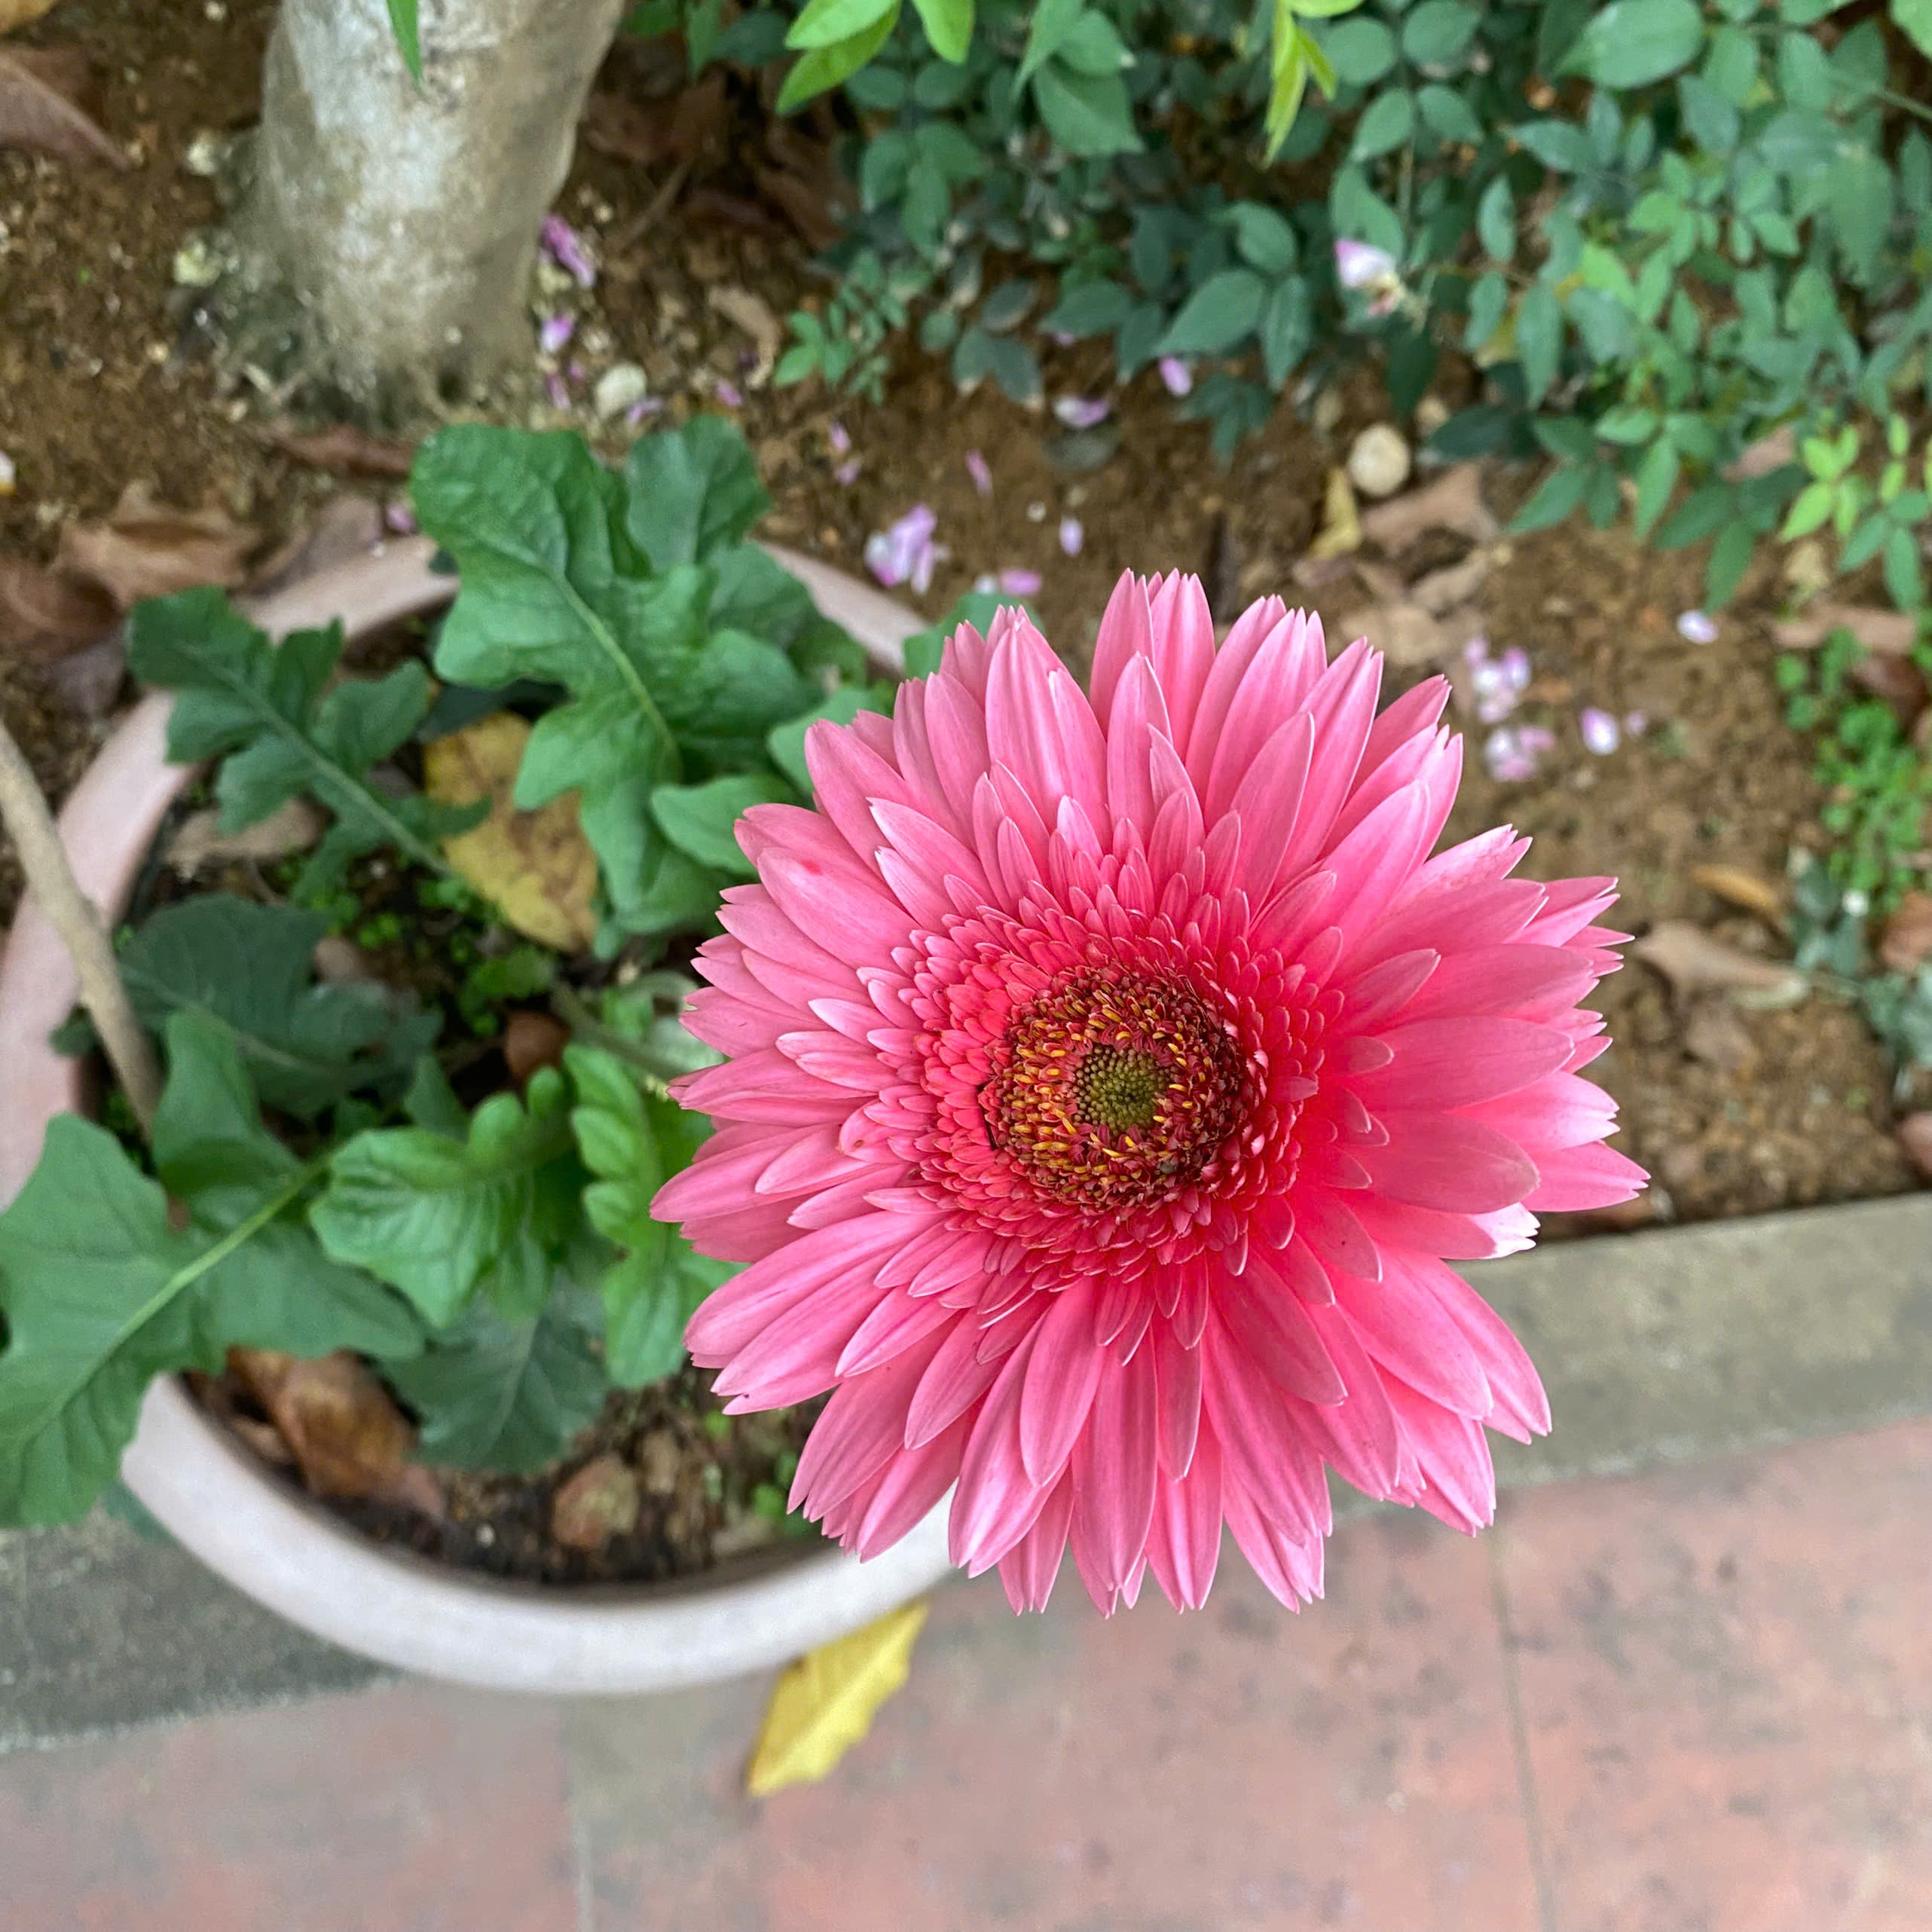hoa_huong_duong: (600, 513, 1720, 1736)
